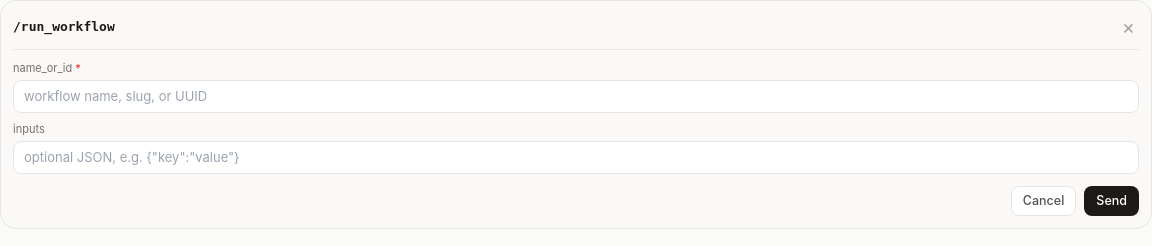
Test: ArgAutocomplete (via SlashForm run_workflow) › filters options as the user types
The width and height of the screenshot is (1152, 246).
Step 1. Focus the field labelled "name_or_id *" → coordinates (576, 96), box [13,80,1139,113]
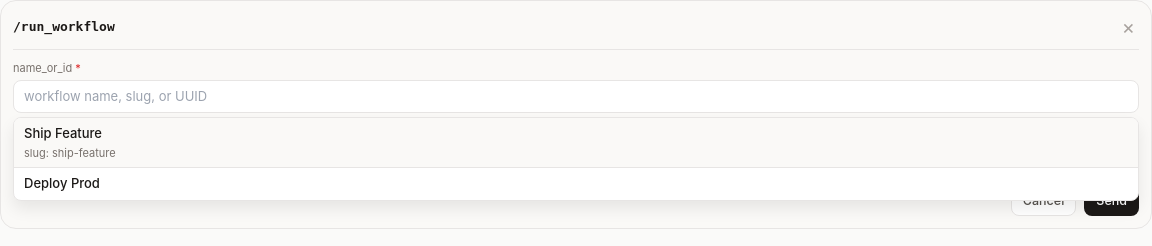
Check: the text "Ship Feature" is shown, box [24,125,102,141]
Step 2. Type "deploy" into the field → coordinates (576, 96), box [13,80,1139,113]
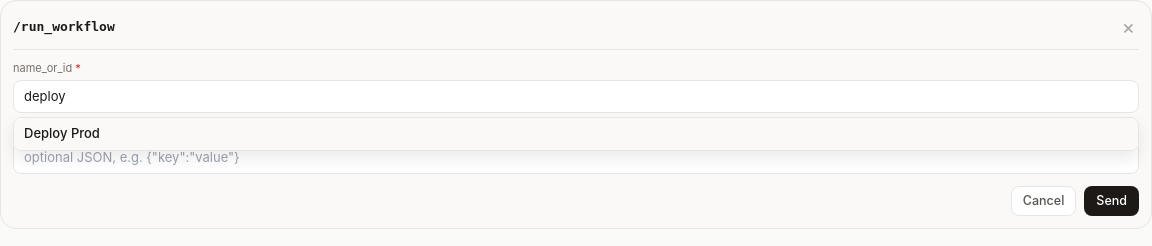
Check: the text "Deploy Prod" is shown, box [24,125,100,141]
Check: the option "Ship Feature" is gone
